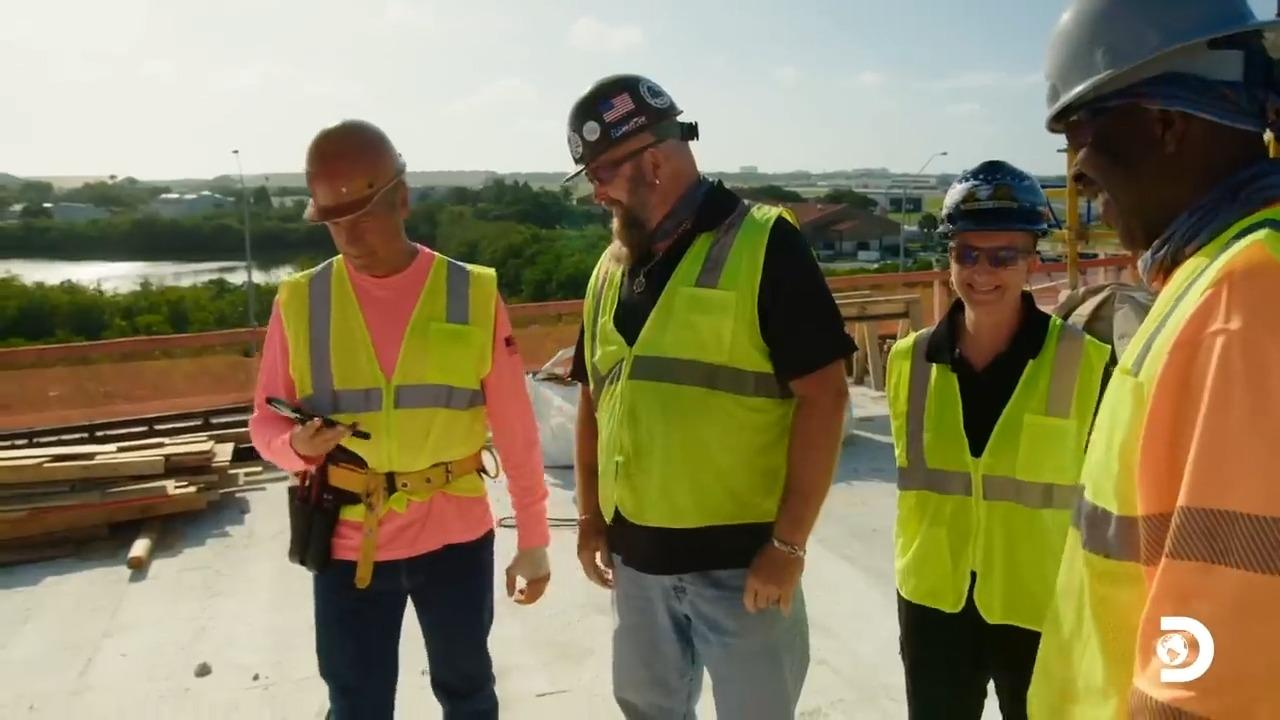Helmet: (1043, 0, 1279, 134), (280, 119, 410, 234), (562, 73, 683, 183), (936, 159, 1051, 239)
Person: (563, 72, 859, 719), (247, 117, 551, 719), (1026, 0, 1279, 719), (884, 159, 1114, 719)
Safety Vest: (1106, 325, 1280, 688), (587, 274, 804, 510), (286, 288, 485, 494), (900, 356, 1081, 581)
bare-arms: (740, 532, 816, 612), (503, 541, 567, 617), (567, 521, 629, 590), (292, 411, 347, 466)
